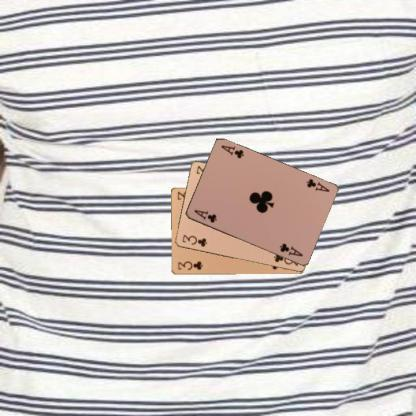3c: (179, 232, 208, 248), (175, 259, 204, 271)
Ac: (303, 176, 330, 194), (191, 208, 218, 224)
